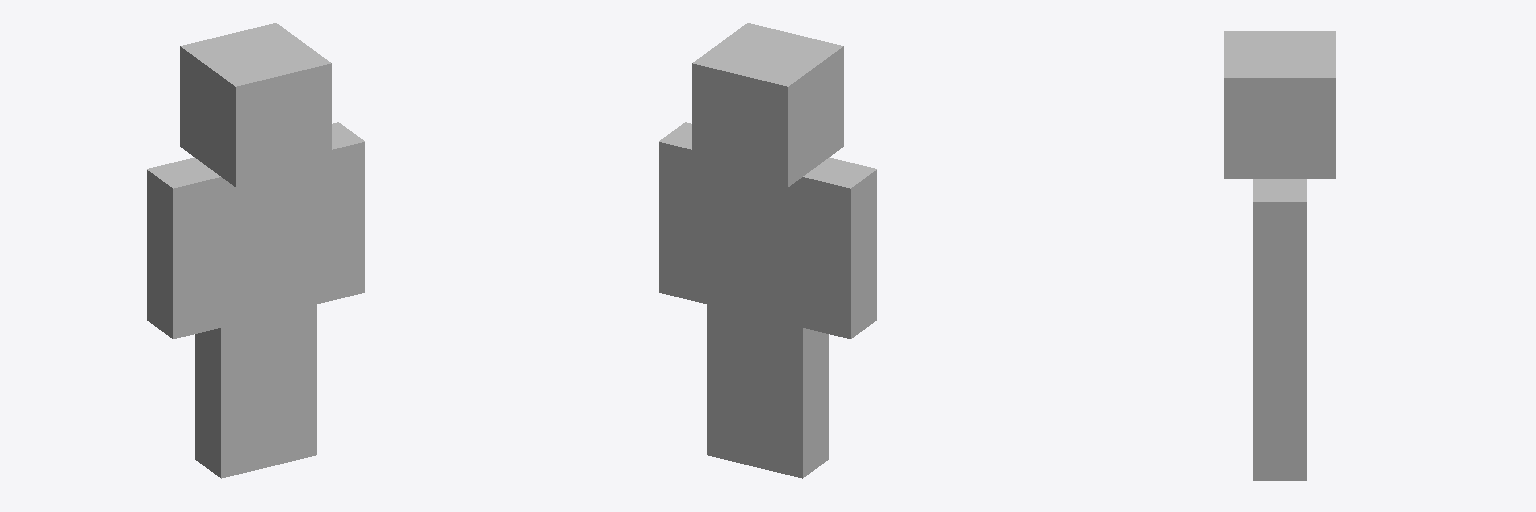
File: player.obj
3 renders of one model, left to right at view 1: azimuth 30°, elevation 25°; view 2: azimuth 150°, elevation 25°; view 3: azimuth 270°, elevation 25°, orthographic.
Visible parts, largest first — view 1: visual_Mesh_5; view 2: visual_Mesh_5; view 3: visual_Mesh_5.
Part boxes in pixels (x1,y1,x2,y2): visual_Mesh_5: (147,23,364,478); visual_Mesh_5: (659,23,876,478); visual_Mesh_5: (1224,31,1335,480).
Size of the model in its own units: 1 by 2 by 0.5.